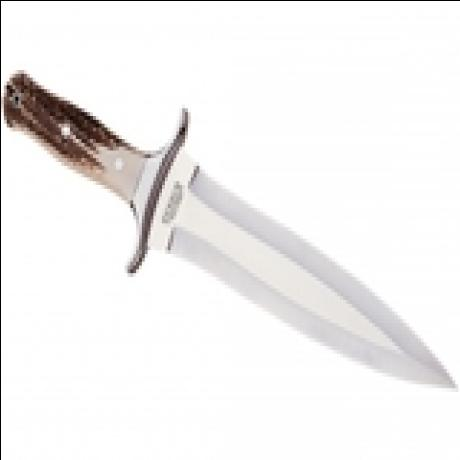weapon: (0, 70, 456, 388)
